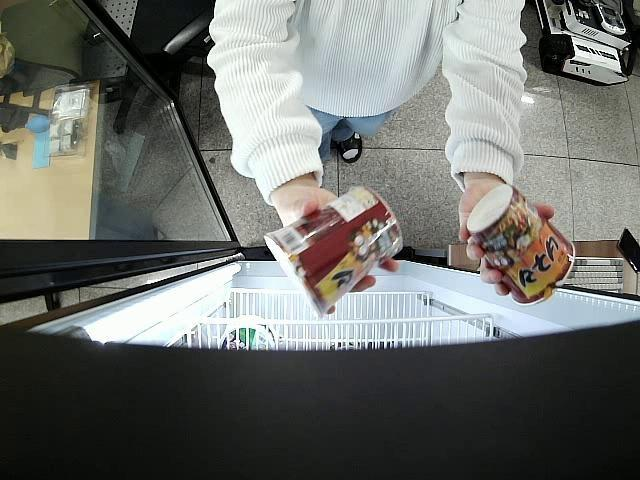06_nuguri_S: (264, 188, 403, 318), (468, 184, 575, 305)
